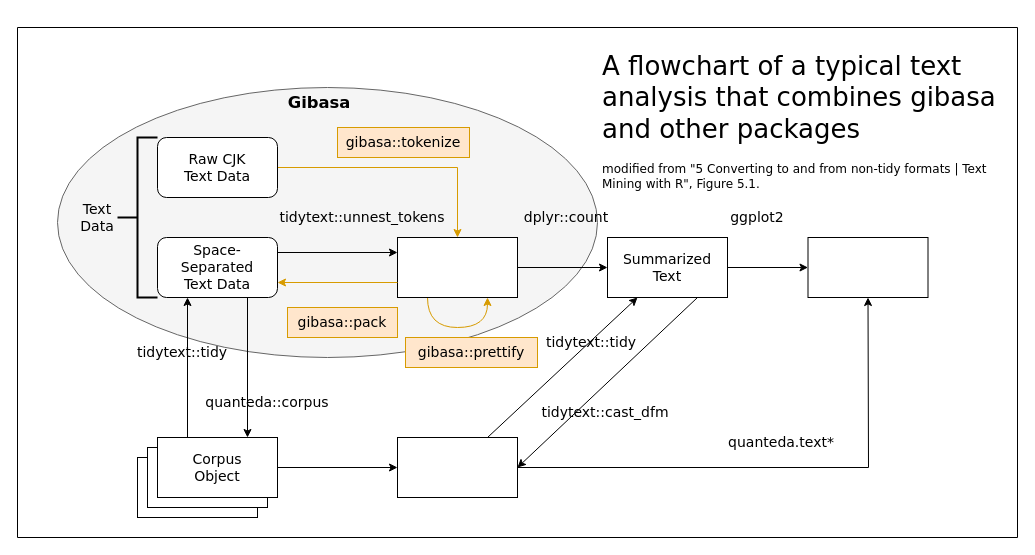
The diagram is 1035 pixels wide and 555 high, and some of its shapes have lost their labels. The shapes that lost their labels are listed below. From the top down, each one's centre as x and y in pixels, then its label:
pixel 457 267: Tidy Text
pixel 867 267: Visualizations
pixel 457 467: Document-Term Matrix
